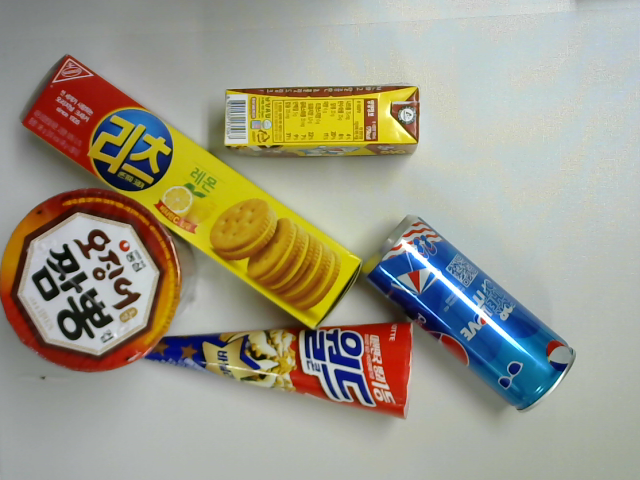Choco_E_Mong: (217, 79, 426, 163)
Ojjam: (1, 187, 204, 370)
Pepsi_Cola_Can_250ml: (357, 209, 582, 419)
Ritz_Remon_96g: (14, 52, 367, 333)
World_Cone_Banila: (96, 314, 427, 424)
